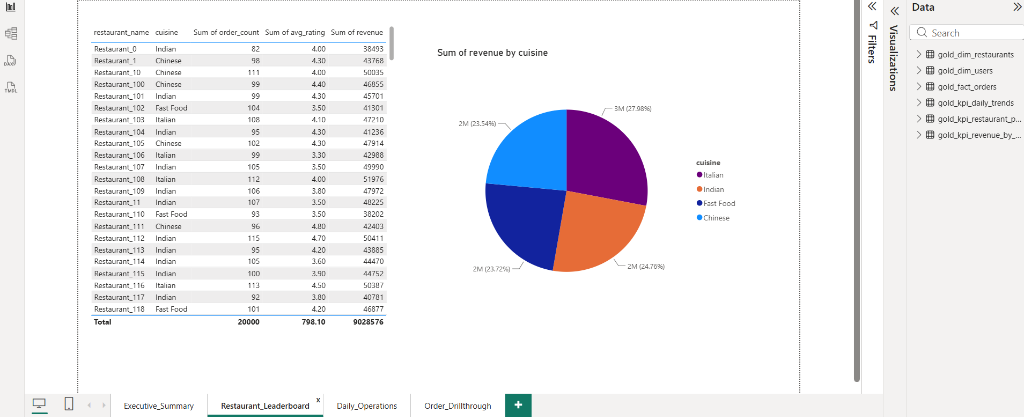

Layout of this report page (visuals, bound fields, positions):
{"tool":"powerbi","page":{"name":"Restaurant_Leaderboard","canvas":[1280,720],"ordinal":1},"visuals":[{"type":"tableEx","fields":{"Values":["gold_kpi_restaurant_performance.restaurant_name","gold_kpi_restaurant_performance.cuisine","Sum(gold_kpi_restaurant_performance.order_count)","Sum(gold_kpi_restaurant_performance.avg_rating)","Sum(gold_kpi_restaurant_performance.revenue)"]},"box":[16.7,40.5,548.8,544],"z":0},{"type":"pieChart","fields":{"Category":["gold_kpi_restaurant_performance.cuisine"],"Y":["Sum(gold_kpi_restaurant_performance.revenue)"]},"box":[632.1,82.1,548.8,481],"z":1}]}

Visuals, with their boxes on the page's 1280x720 design canvas (x1, y1, x2, y2). These are canvas units, not pixel positions in the 1024x417 screenshot, which may show the page scaled, cropped or inside an application window:
tableEx - gold_kpi_restaurant_performance.restaurant_name x gold_kpi_restaurant_performance.cuisine: region(17, 40, 566, 584)
pieChart - gold_kpi_restaurant_performance.cuisine x Sum(gold_kpi_restaurant_performance.revenue): region(632, 82, 1181, 563)
